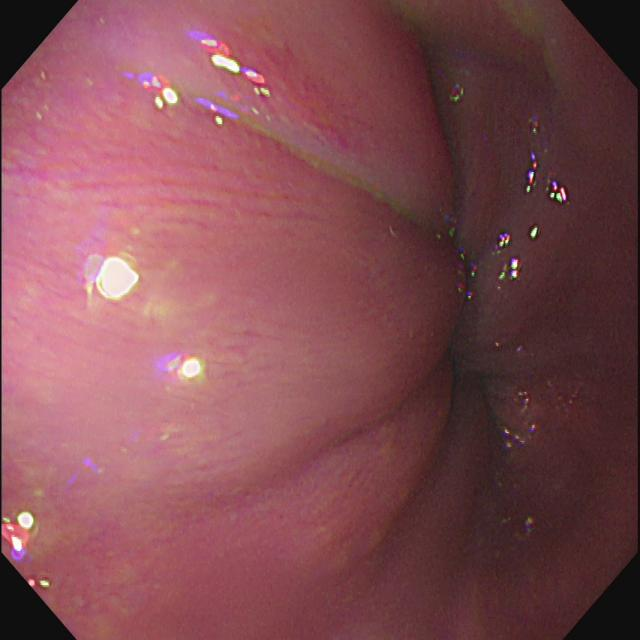I: (363, 139, 551, 506)
U: (201, 35, 271, 100), (2, 513, 51, 590), (80, 249, 143, 307), (137, 70, 181, 117), (495, 231, 522, 287), (163, 351, 207, 383), (547, 176, 571, 208), (525, 151, 540, 195), (530, 224, 543, 242)
